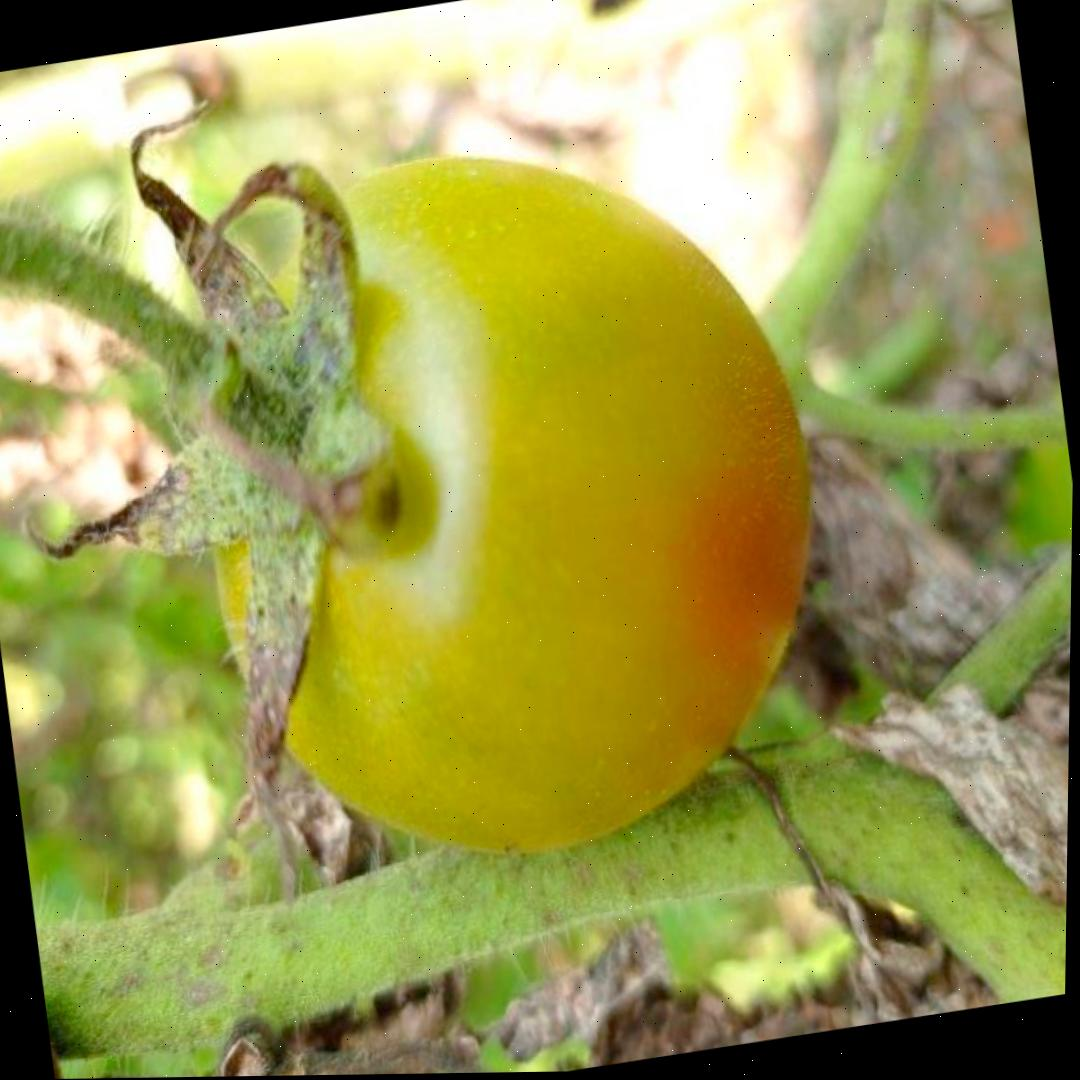setengah_matang: (151, 100, 866, 906)
